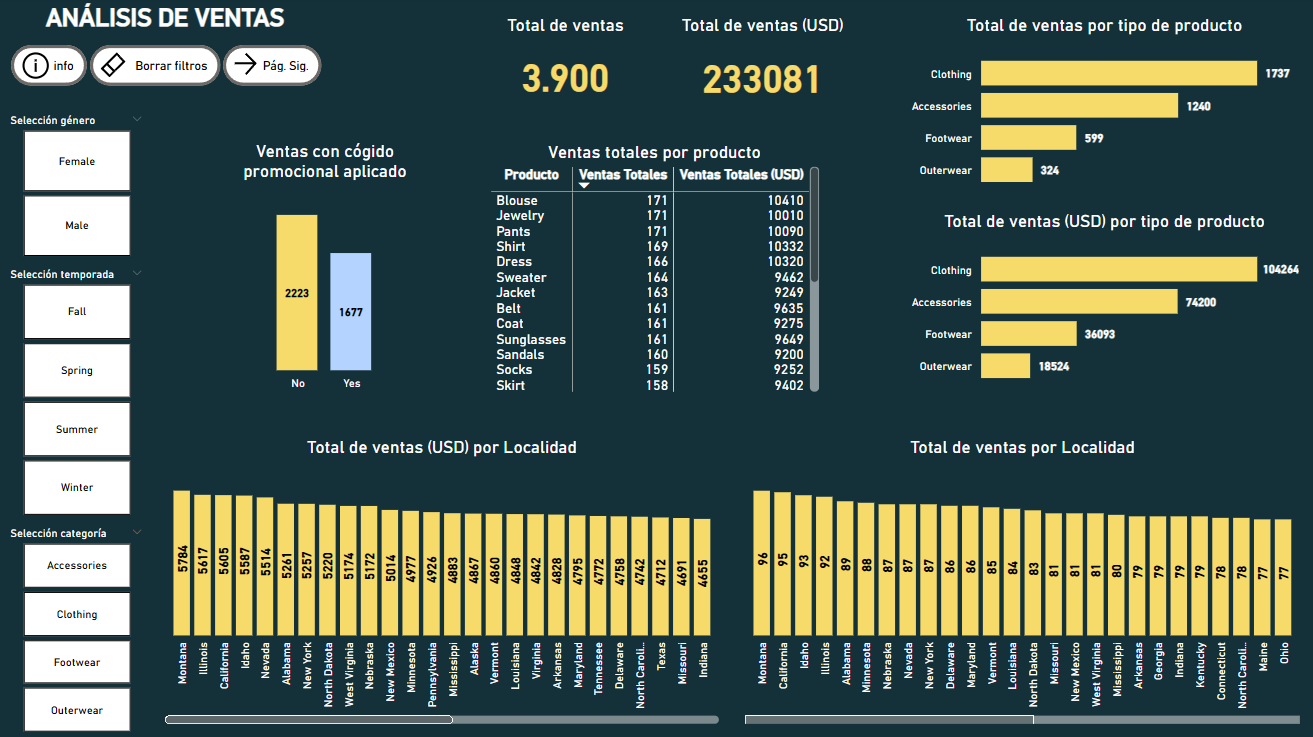

Layout of this report page (visuals, bound fields, positions):
{"tool":"powerbi","page":{"name":"Análisis de Ventas","canvas":[1280,720],"ordinal":0},"visuals":[{"type":"slicer","fields":{"Values":["shopping_behavior_updated.Season"]},"box":[0,257.8,153.7,251.9],"z":0},{"type":"card","title":"Total de ventas (USD)","fields":{"Values":["Sum(shopping_behavior_updated.Purchase Amount (USD))"]},"box":[640,16.5,209.1,98.2],"z":1000},{"type":"clusteredColumnChart","title":"Total de ventas por Localidad","fields":{"Category":["shopping_behavior_updated.Location"],"Y":["CountNonNull(shopping_behavior_updated.Customer ID)"]},"box":[722.7,427,549.5,284],"z":2000},{"type":"card","title":"Total de ventas","fields":{"Values":["CountNonNull(shopping_behavior_updated.Customer ID)"]},"box":[465.9,16.5,174.1,97.3],"z":3000},{"type":"slicer","fields":{"Values":["shopping_behavior_updated.Category"]},"box":[0,509.7,153.7,211.1],"z":4000},{"type":"clusteredColumnChart","title":"Total de ventas (USD) por Localidad","fields":{"Category":["shopping_behavior_updated.Location"],"Y":["Sum(shopping_behavior_updated.Purchase Amount (USD))"]},"box":[158.5,427,548.6,284],"z":5000},{"type":"slicer","fields":{"Values":["shopping_behavior_updated.Gender"]},"box":[0,108,153.7,149.8],"z":6000},{"type":"barChart","title":"Total de ventas por tipo de producto","fields":{"Category":["shopping_behavior_updated.Category"],"Y":["CountNonNull(shopping_behavior_updated.Customer ID)"]},"box":[883.5,16.7,388.2,181],"z":7000},{"type":"barChart","title":"Total de ventas (USD) por tipo de producto","fields":{"Category":["shopping_behavior_updated.Category"],"Y":["Sum(shopping_behavior_updated.Purchase Amount (USD))"]},"box":[883.5,207.1,388.2,181.1],"z":8000},{"type":"clusteredColumnChart","title":"Ventas con cógido promocional aplicado","fields":{"Y":["CountNonNull(shopping_behavior_updated.Customer ID)"],"Category":["shopping_behavior_updated.Promo Code Used"]},"box":[219.8,139.1,198.4,249],"z":10000},{"type":"textbox","box":[13.5,0,299.7,45.8],"z":11000},{"type":"actionButton","box":[13.5,45.8,73.9,39.5],"z":12000},{"type":"actionButton","box":[90.5,45.8,127,39.5],"z":13000},{"type":"actionButton","box":[219.6,45.8,95.7,39.5],"z":14000},{"type":"tableEx","title":"Ventas totales por producto","fields":{"Values":["shopping_behavior_updated.Item Purchased","shopping_behavior_updated.Ventas Totales","Sum(shopping_behavior_updated.Purchase Amount (USD))"]},"box":[474.7,140.1,329.7,248],"z":15000}]}

Visuals, with their boxes in screenshot pixels (x1, y1, x2, y2), scaled from the page's 1280x720 canvas onto the 1313x737 screenshot:
slicer - shopping_behavior_updated.Season: (0,264,158,522)
"Total de ventas (USD)" card: (656,17,871,117)
"Total de ventas por Localidad" clusteredColumnChart: (741,437,1305,728)
"Total de ventas" card: (478,17,656,116)
slicer - shopping_behavior_updated.Category: (0,522,158,736)
"Total de ventas (USD) por Localidad" clusteredColumnChart: (163,437,725,728)
slicer - shopping_behavior_updated.Gender: (0,111,158,264)
"Total de ventas por tipo de producto" barChart: (906,17,1304,202)
"Total de ventas (USD) por tipo de producto" barChart: (906,212,1304,397)
"Ventas con cógido promocional aplicado" clusteredColumnChart: (225,142,429,397)
textbox: (14,0,321,47)
actionButton: (14,47,90,87)
actionButton: (93,47,223,87)
actionButton: (225,47,323,87)
"Ventas totales por producto" tableEx: (487,143,825,397)
